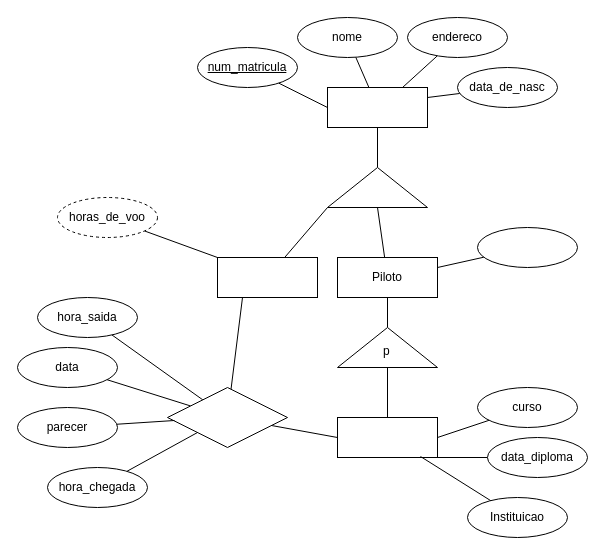
Image size: 605x555. Some labels were removed from this diagram. The shapes that lost their labels are listed below. From the top down, each one's centre as x and y in pixels, then its label:
the point at 377,107: Socio
the point at 377,187: d,t
the point at 527,247: breve
the point at 267,277: Aluno
the point at 227,417: Instruido
the point at 387,437: Instrutor
